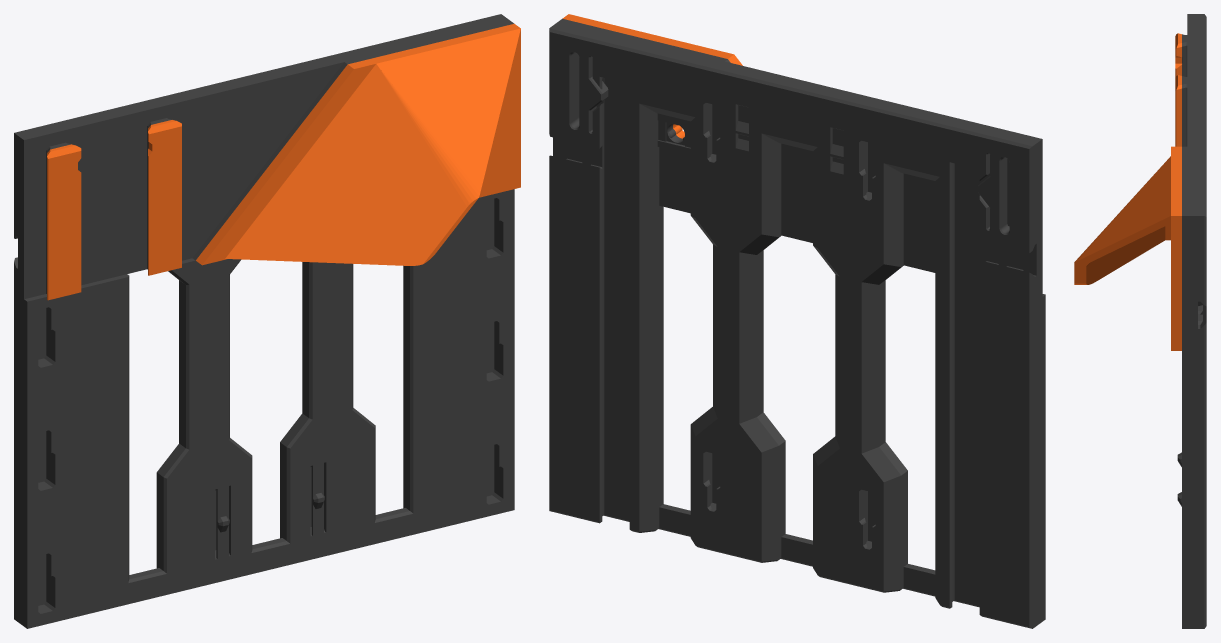
Rendered from Faceplate_EdgeLabel_1W-15H.lib.glb.
The picture shows the model from 3 angles, left to right: view 1: azimuth 30°, elevation 25°; view 2: azimuth 150°, elevation 25°; view 3: azimuth 270°, elevation 25°; orthographic projection. The views are drawn at different scales.
Visible parts, largest first — view 1: Faceplate_EdgeLabel_1W-15H; view 2: Faceplate_EdgeLabel_1W-15H; view 3: Faceplate_EdgeLabel_1W-15H.
Boxes of the visible parts, left/top/right/bottom form: Faceplate_EdgeLabel_1W-15H: left=14, top=14, right=520, bottom=628; Faceplate_EdgeLabel_1W-15H: left=549, top=14, right=1045, bottom=628; Faceplate_EdgeLabel_1W-15H: left=1074, top=14, right=1206, bottom=628.
Size of the model in its own units: 87 by 83 by 24.1.
